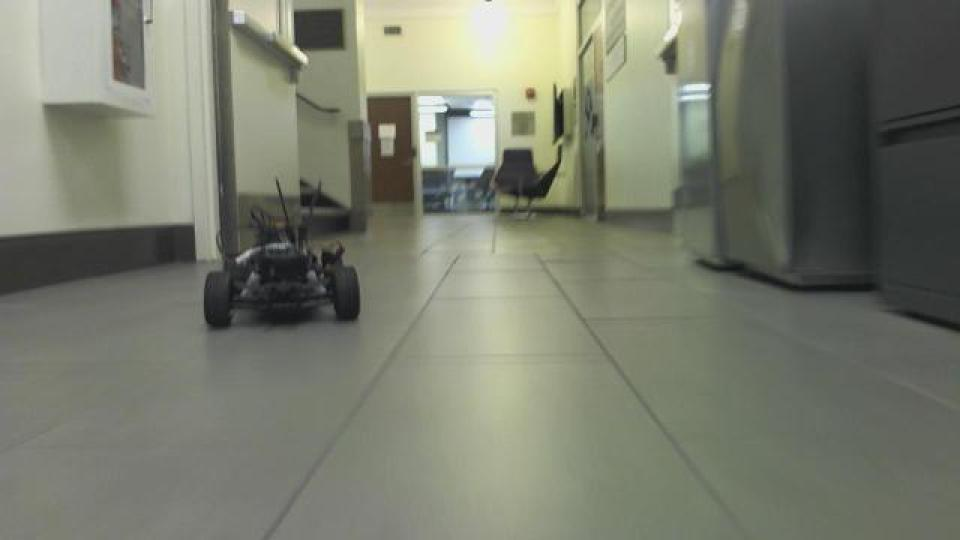car: (199, 176, 363, 332)
